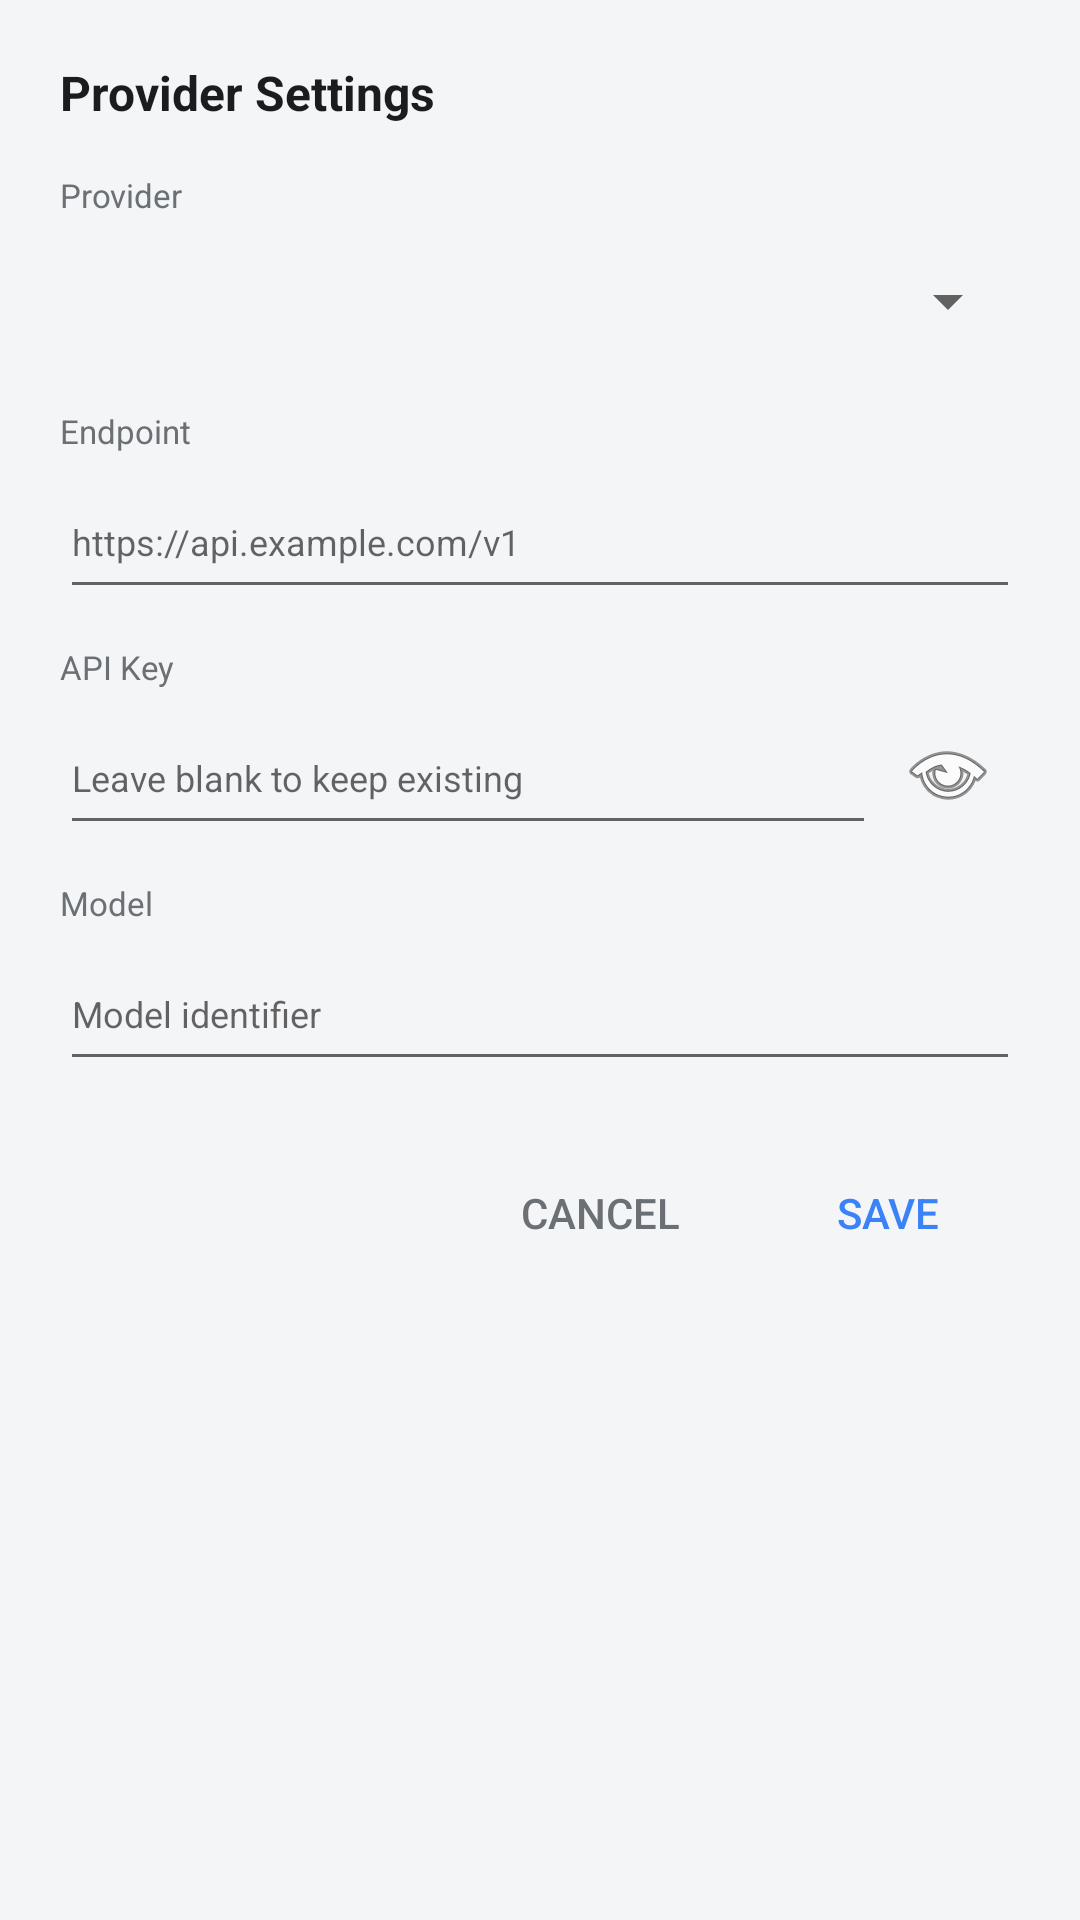

Icon click points for this 1080x1920 phone screenshot, format [x,y]:
Show/hide API key: [948,775]
